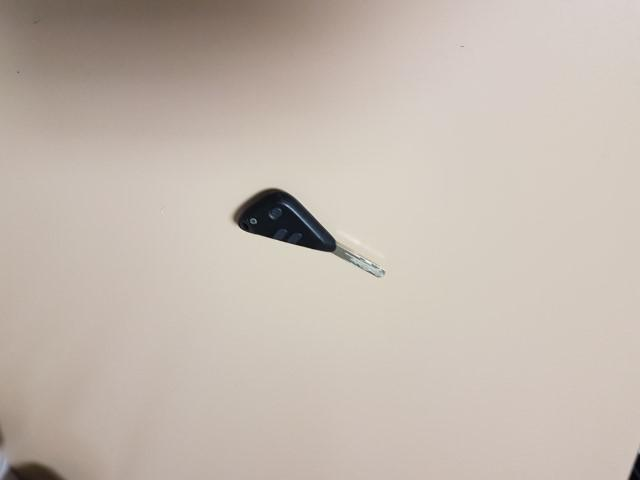key: (238, 188, 388, 278)
